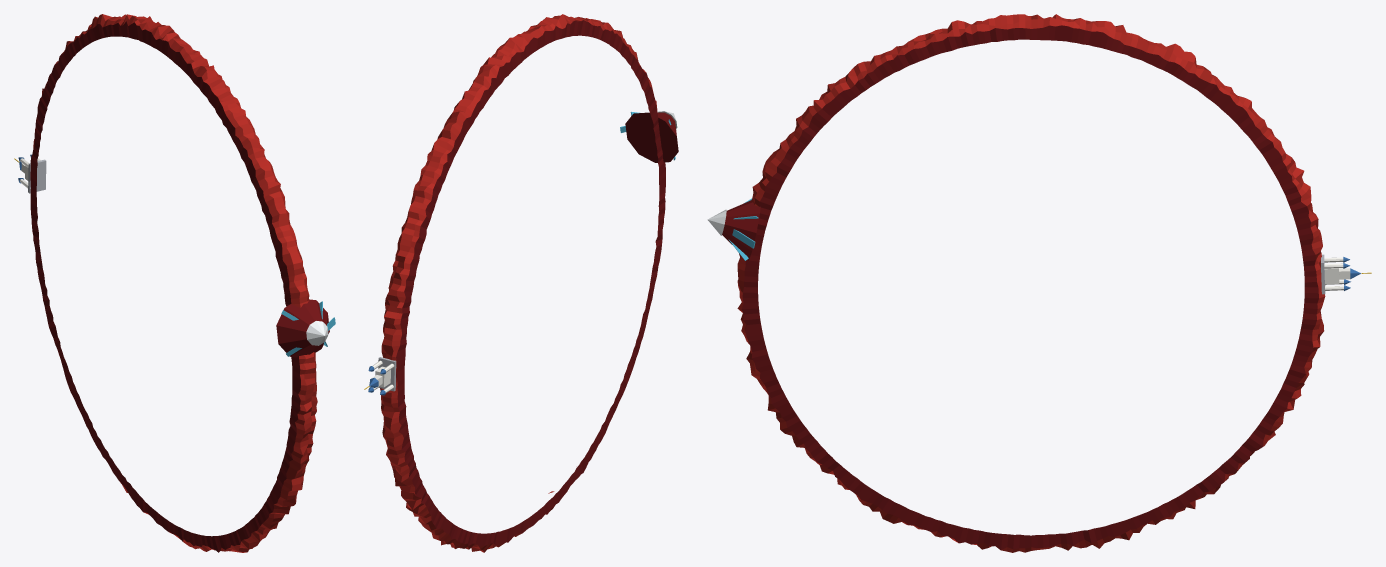
The model's file is red-line.glb.
The picture shows the model from 3 angles, left to right: view 1: azimuth 30°, elevation 25°; view 2: azimuth 150°, elevation 25°; view 3: azimuth 270°, elevation 25°; orthographic projection. The views are drawn at different scales.
Visible parts, largest first — view 1: RedLine, ReverseMountain, MaryGeoise; view 2: RedLine, ReverseMountain, MaryGeoise; view 3: RedLine, ReverseMountain, MaryGeoise.
Part boxes in pixels (box(x1,y1,x2,y2)): RedLine: box(30, 14, 317, 552); ReverseMountain: box(276, 299, 335, 357); MaryGeoise: box(14, 154, 46, 193); RedLine: box(380, 14, 665, 552); ReverseMountain: box(620, 111, 678, 162); MaryGeoise: box(364, 357, 396, 395); RedLine: box(737, 14, 1325, 552); ReverseMountain: box(707, 198, 760, 260); MaryGeoise: box(1321, 254, 1371, 294).
Size of the model in its own units: 1.28 by 10.6 by 11.9.
